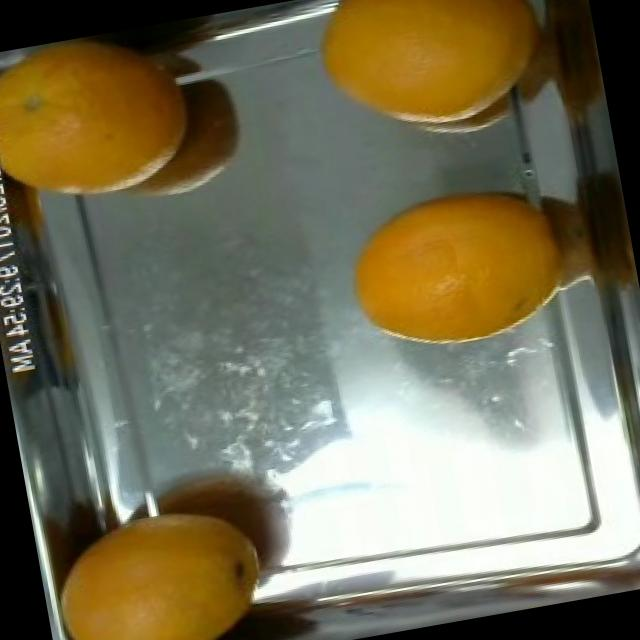Fruit: (324, 165, 548, 372), (32, 491, 263, 640), (154, 63, 268, 199), (555, 156, 640, 313)
